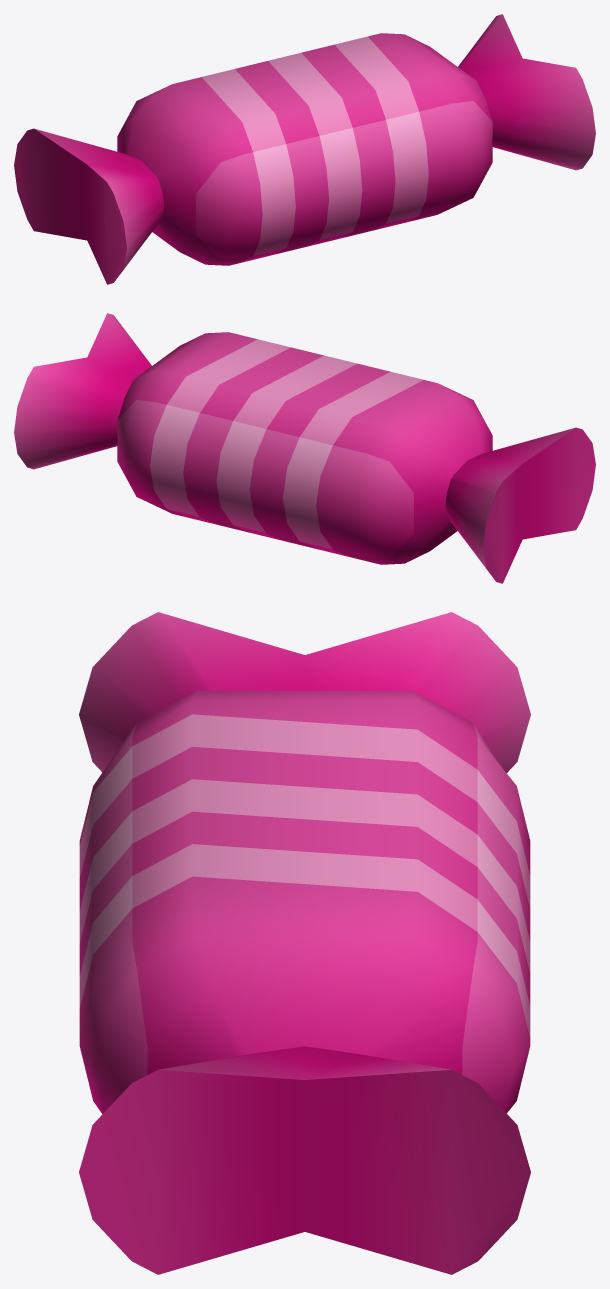
Rendered from Candy_Pink_01.fbx.
3 renders of one model, top to bottom at view 1: azimuth 30°, elevation 25°; view 2: azimuth 150°, elevation 25°; view 3: azimuth 270°, elevation 25°, orthographic. The views are drawn at different scales.
Parts seen in each view (by area): view 1: Candy_Pink_01; view 2: Candy_Pink_01; view 3: Candy_Pink_01.
Boxes of the visible parts, <box> form: Candy_Pink_01: <box>14,14,595,284</box>; Candy_Pink_01: <box>14,313,595,583</box>; Candy_Pink_01: <box>79,612,530,1274</box>.
Bounding box in the file's own units: 225 × 64.37 × 93.93.
